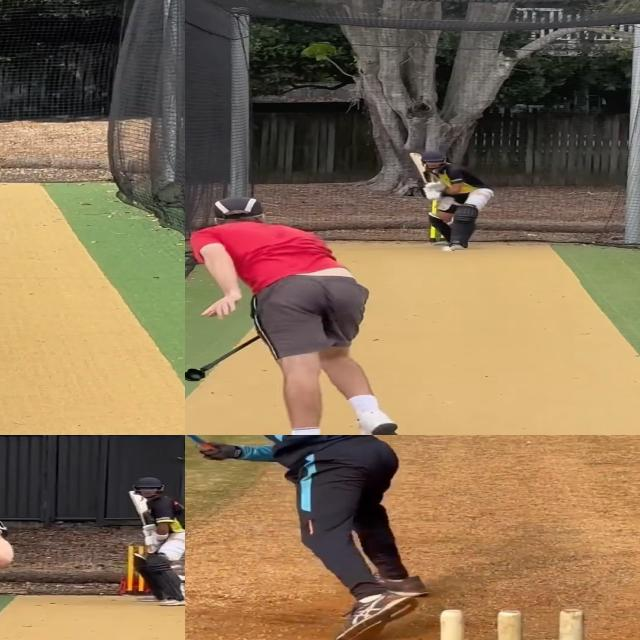Cricket ball: (439, 244, 455, 254)
Stumps: (432, 604, 588, 640)
